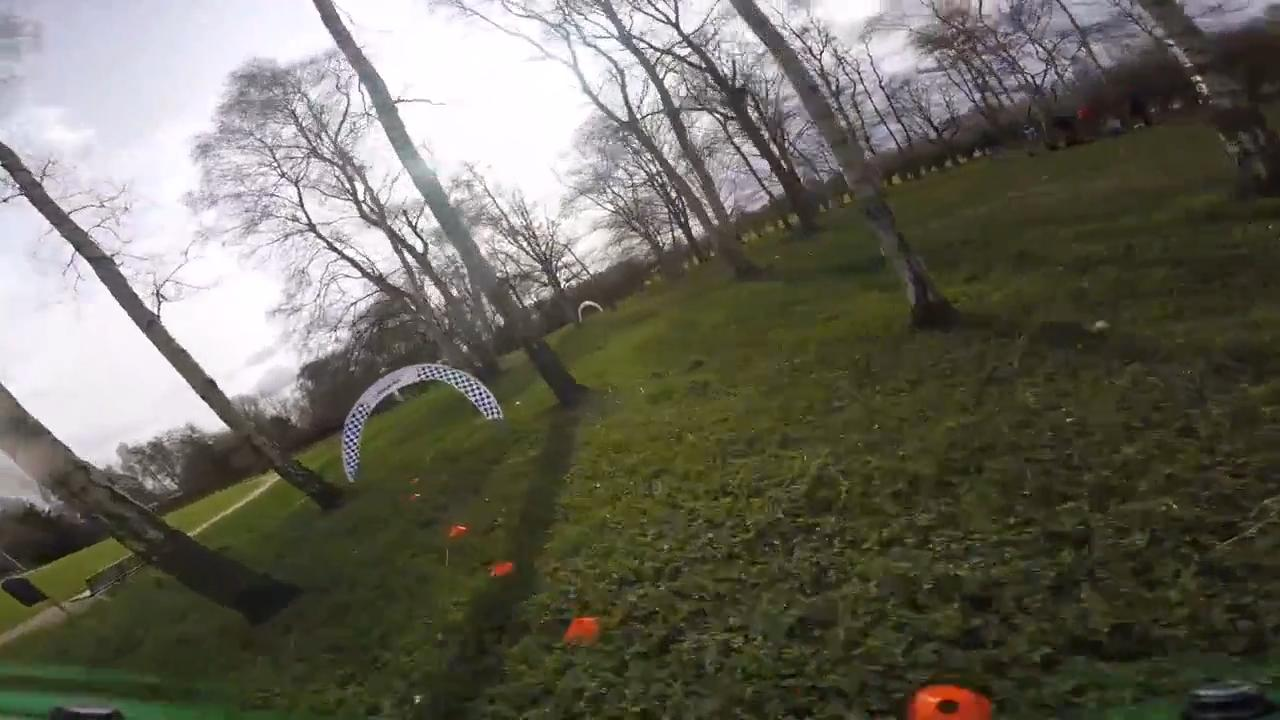gate: (338, 360, 506, 480)
